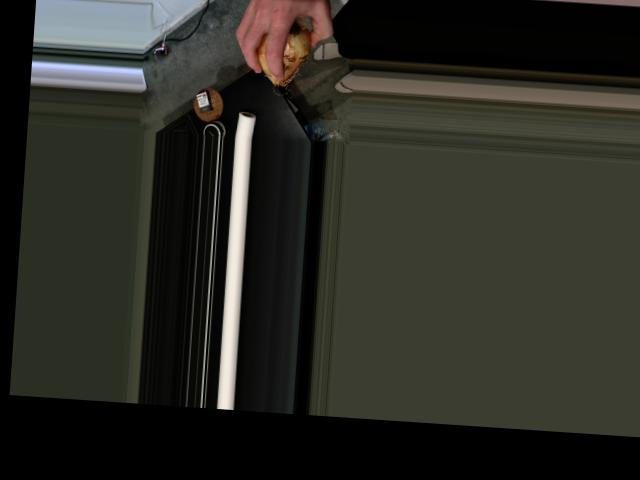onion: (257, 22, 313, 86)
